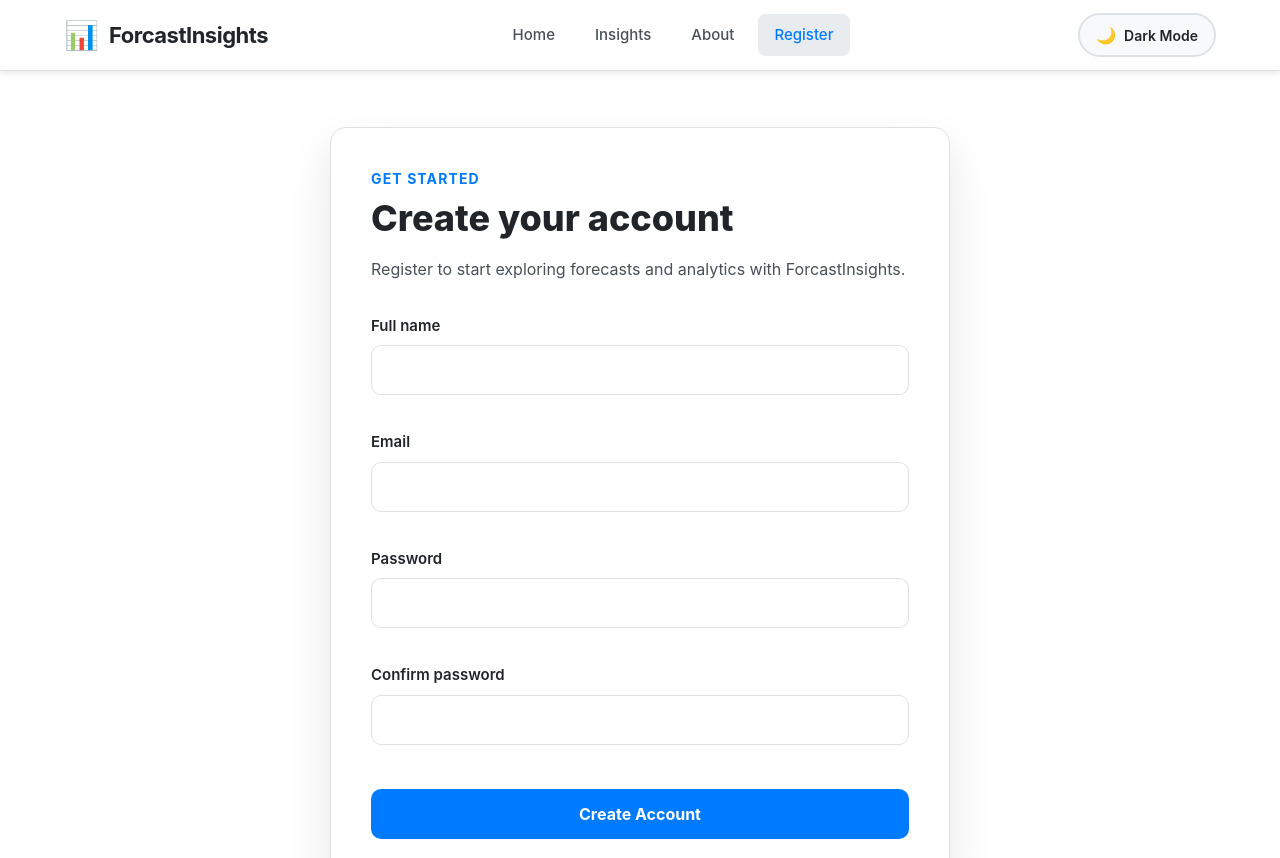
Test: Register › revalidates a touched field as it changes after a submit attempt
Click the button "Create Account".
click(640, 814)  # box [371,789,909,839]
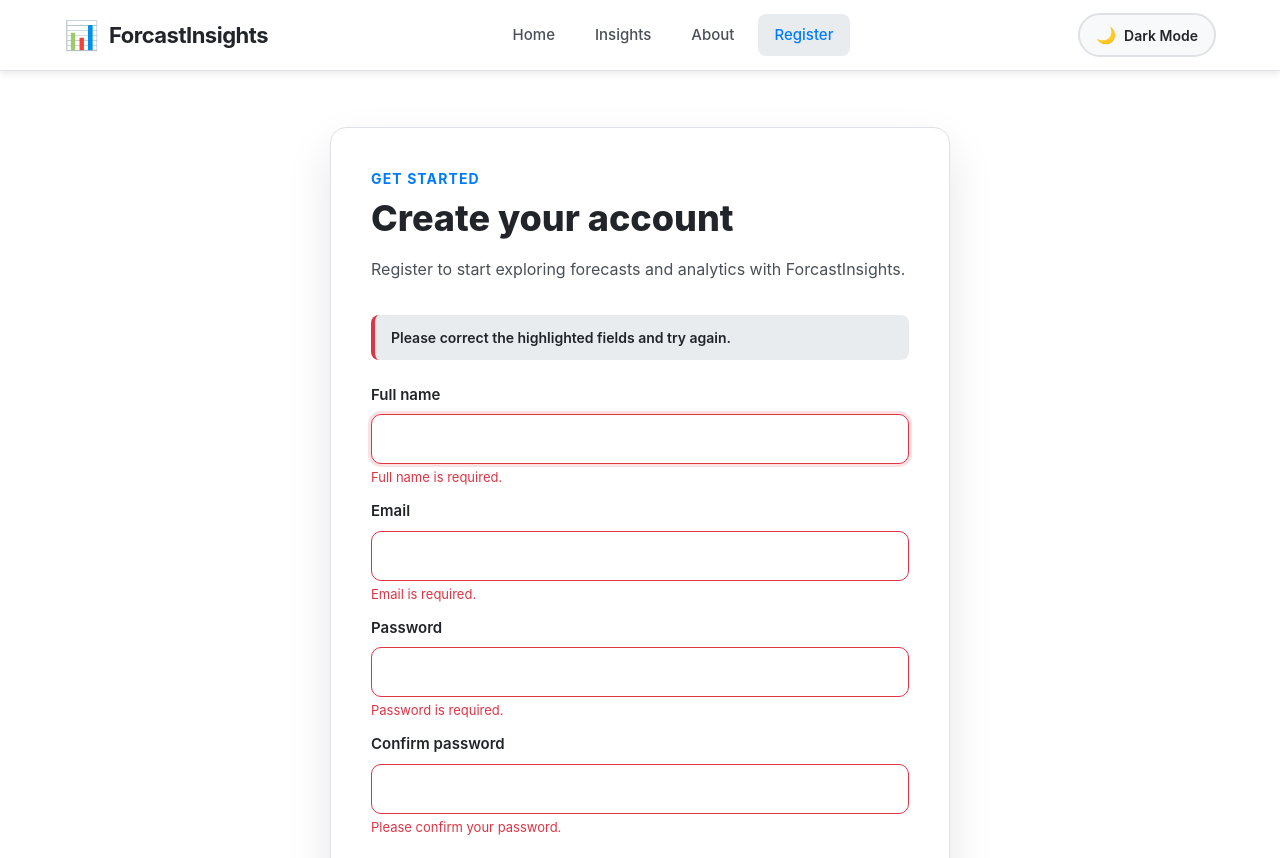
Expected: the text "Full name is required." is shown, [371,469,502,485]
Type "Jane Doe" into the field labelled "Full name".
click(640, 439); type("Jane Doe")  # box [371,414,909,464]
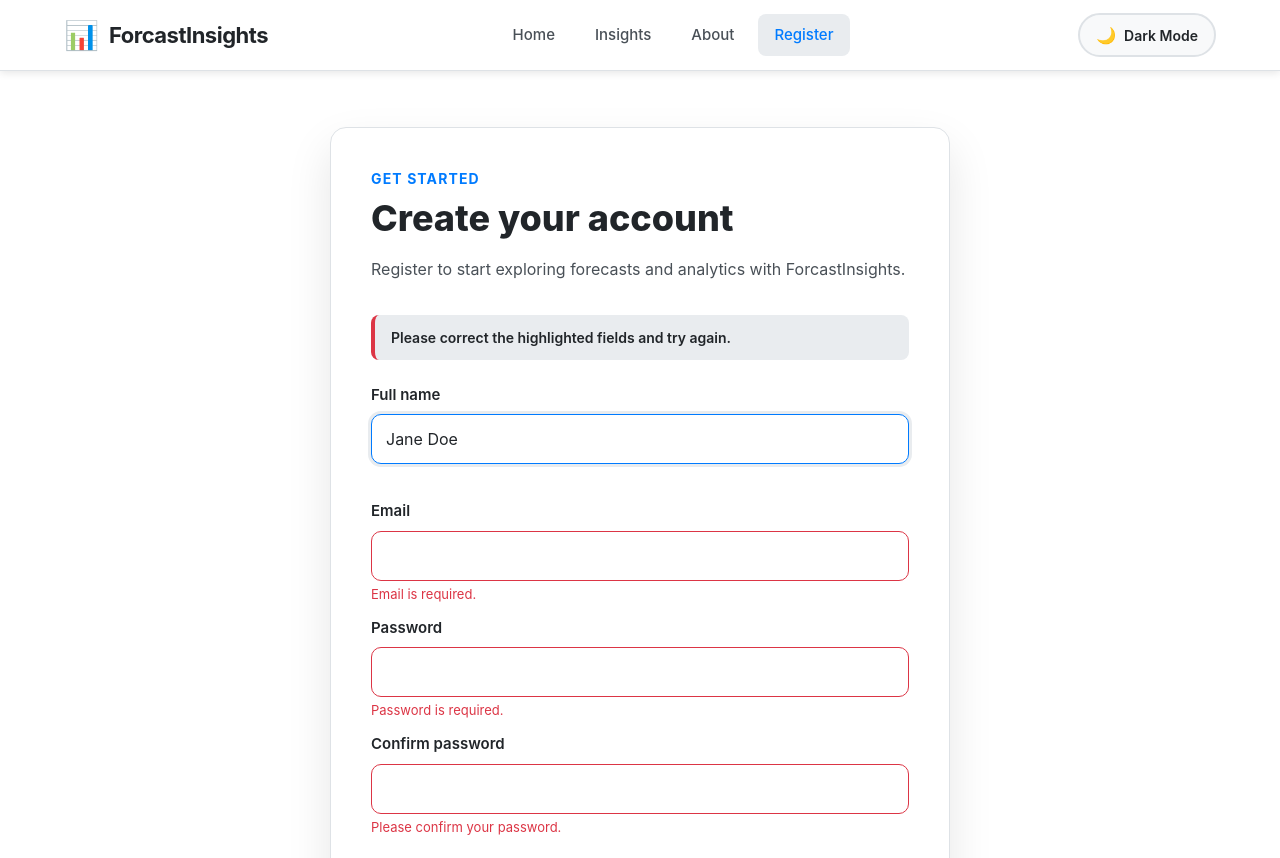
Expected: the text "Full name is required." is gone
